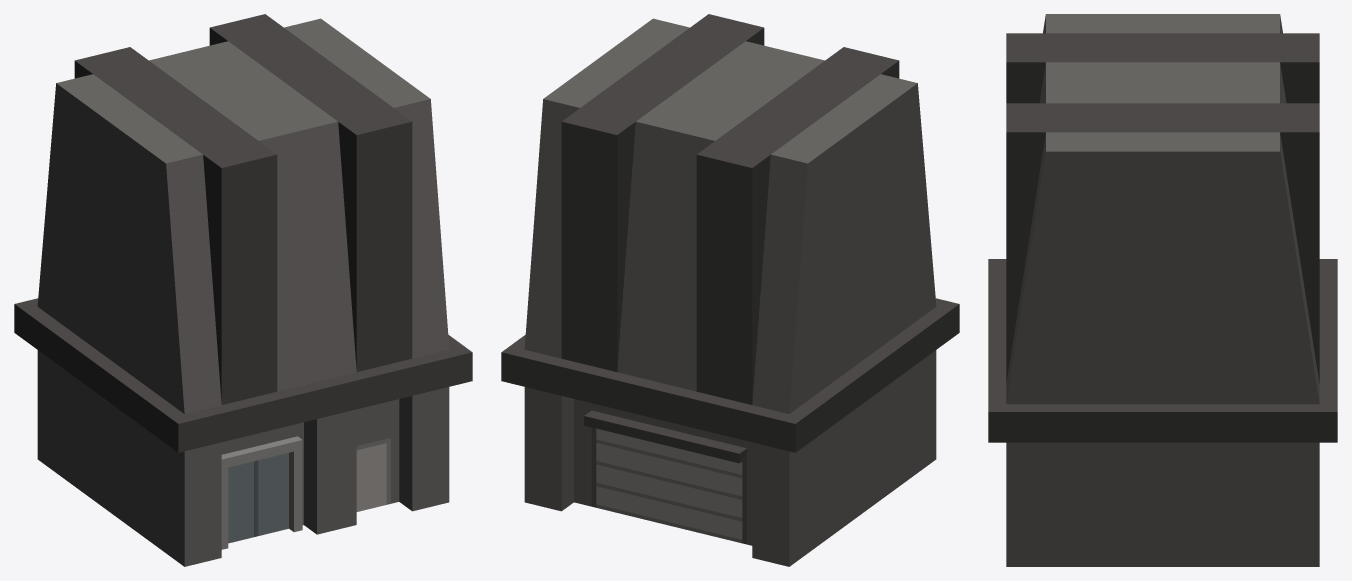
The model's file is SM_Bld_Office_02.fbx.
3 views of the same model, side by side, from view 1: azimuth 30°, elevation 25°; view 2: azimuth 150°, elevation 25°; view 3: azimuth 270°, elevation 25° (orthographic). The views are drawn at different scales.
Parts seen in each view (by area): view 1: SM_Bld_Office_02; view 2: SM_Bld_Office_02; view 3: SM_Bld_Office_02.
Boxes of the visible parts, x1=… form: SM_Bld_Office_02: x1=14, y1=14, x2=472, y2=566; SM_Bld_Office_02: x1=501, y1=14, x2=959, y2=566; SM_Bld_Office_02: x1=988, y1=14, x2=1337, y2=566.
Bounding box in the file's own units: 12.82 × 16.24 × 12.39.
